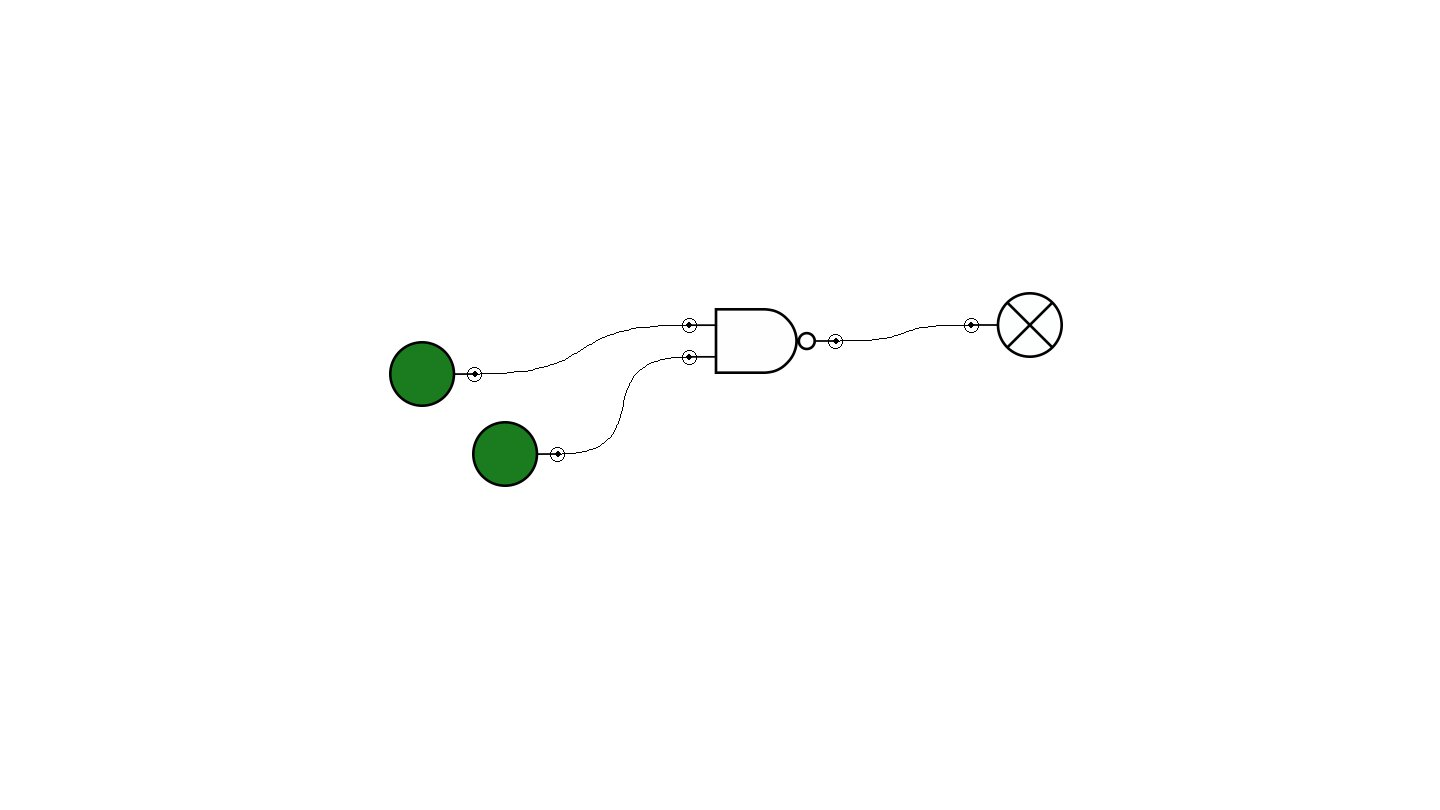bulb: (964, 292, 1063, 358)
nand: (682, 308, 843, 374)
switch_True: (472, 421, 565, 487), (389, 341, 482, 407)
